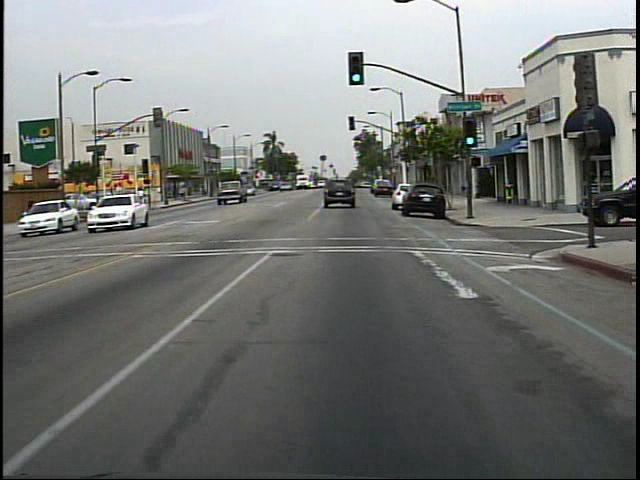person: (135, 184, 151, 209)
